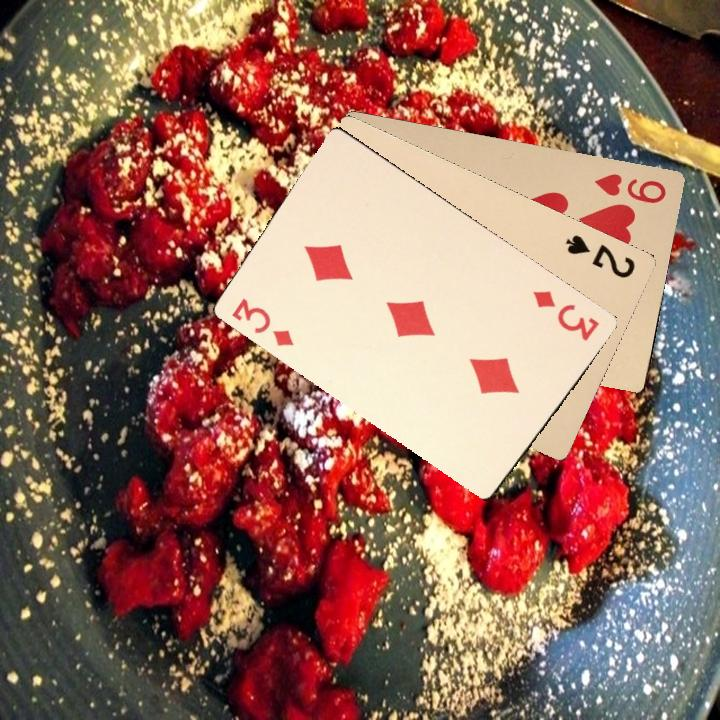2s: (561, 230, 638, 281)
3d: (529, 286, 602, 344), (227, 294, 297, 350)
9h: (591, 169, 669, 206)
